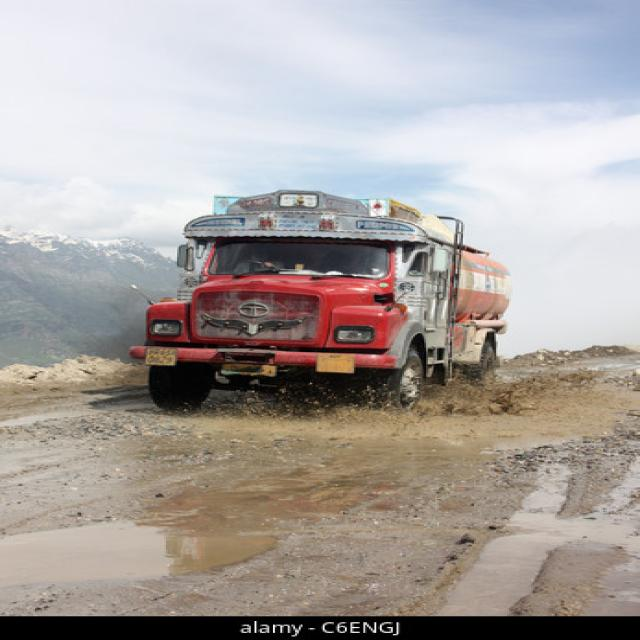normal_truck: (128, 190, 512, 409)
